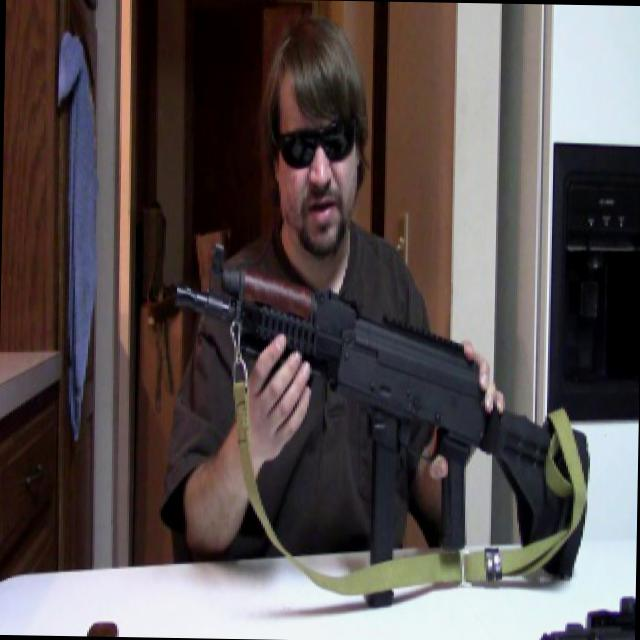long weapon: (145, 236, 596, 587)
